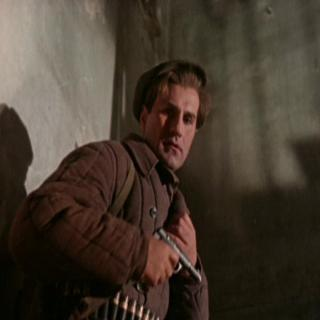gun: (141, 224, 215, 293)
